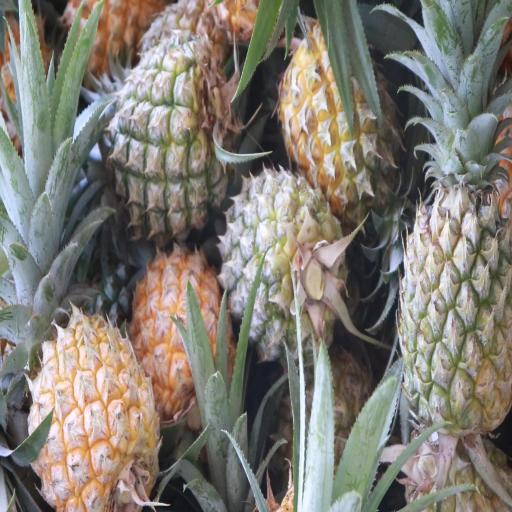------------------------------: (285, 28, 407, 216), (109, 53, 235, 229), (227, 173, 348, 352)
Pineapple - v8 v1: (26, 322, 161, 510), (134, 250, 232, 412)
